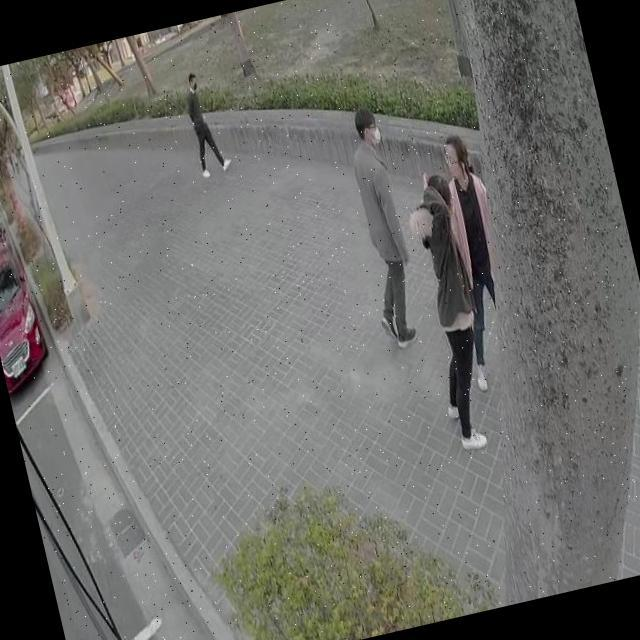person: (392, 168, 507, 450), (429, 128, 532, 392), (334, 104, 429, 348), (179, 66, 234, 178)
